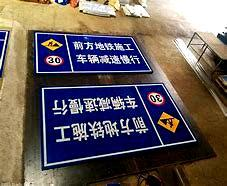sign: (35, 84, 189, 153), (34, 29, 149, 72)
